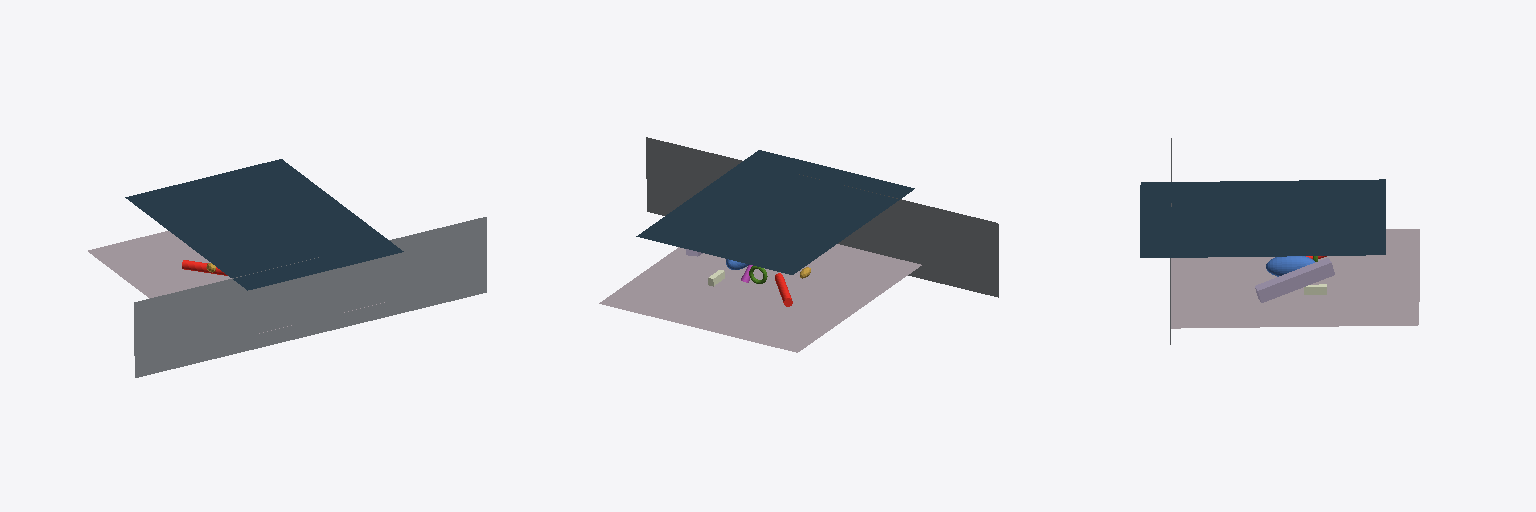
The picture shows the model from 3 angles: view 1: azimuth 30°, elevation 25°; view 2: azimuth 150°, elevation 25°; view 3: azimuth 270°, elevation 25°; orthographic projection.
Visible parts, largest first — view 1: back_栅格, sky_平面.002, plane_平面.001; view 2: sky_平面.002, plane_平面.001, back_栅格; view 3: sky_平面.002, plane_平面.001, cuboid_立方体, sphere_球体.
Boxes of the visible parts, x1,y1,x2,y2 form: back_栅格: [134, 217, 486, 377]; sky_平面.002: [125, 159, 403, 290]; plane_平面.001: [88, 231, 384, 333]; sky_平面.002: [636, 150, 914, 274]; plane_平面.001: [599, 244, 921, 352]; back_栅格: [646, 137, 998, 297]; sky_平面.002: [1140, 179, 1385, 257]; plane_平面.001: [1171, 229, 1419, 328]; cuboid_立方体: [1255, 258, 1334, 302]; sphere_球体: [1266, 256, 1314, 276].
Bounding box in the file's own units: 54.16 × 11.49 × 37.15.